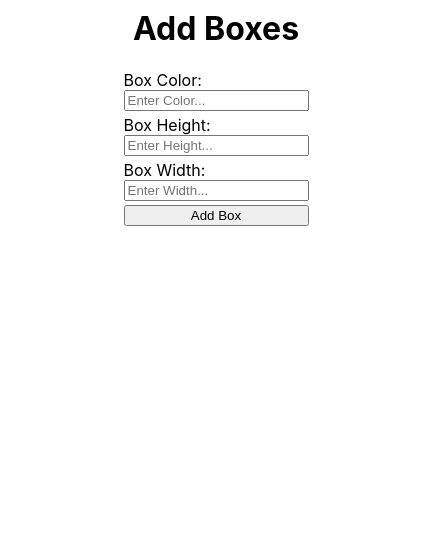
Test: should add box
The image size is (433, 553).
Type "blue" into the field labelled "Box Color:" at coordinates (216, 100), box [124,90,308,111]
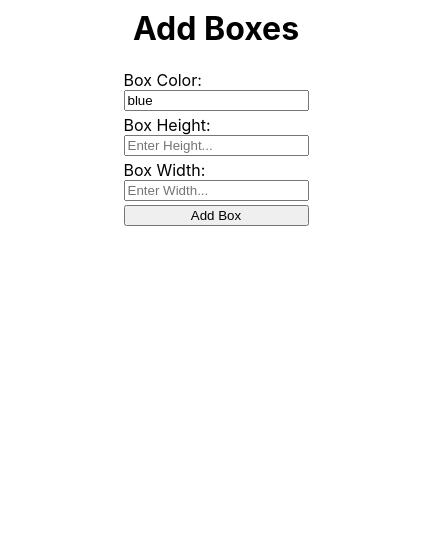
Type "400" into the number field labelled "Box Width:" at coordinates (216, 190), box [124,180,308,201]
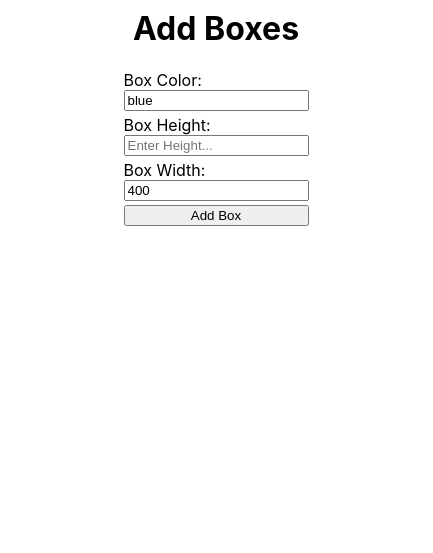
Type "300" into the number field labelled "Box Height:" at coordinates (216, 145), box [124,135,308,156]
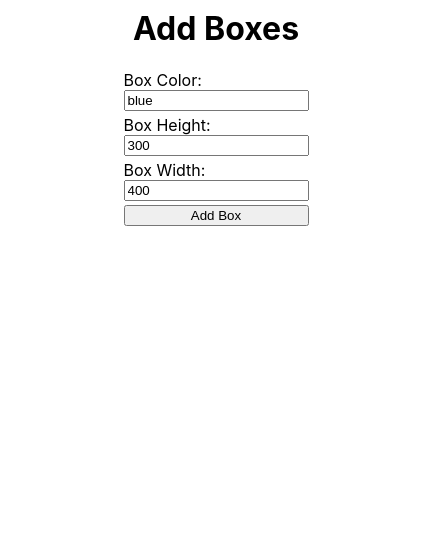
Click the button "Add Box" at coordinates (216, 215), box [124,205,308,226]
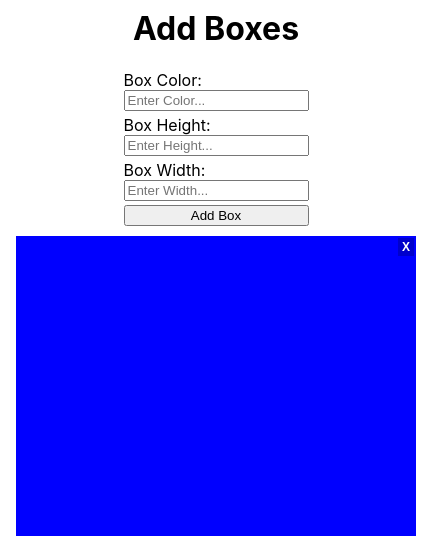
Expected: the button "X" is shown, [398,238,414,256]
